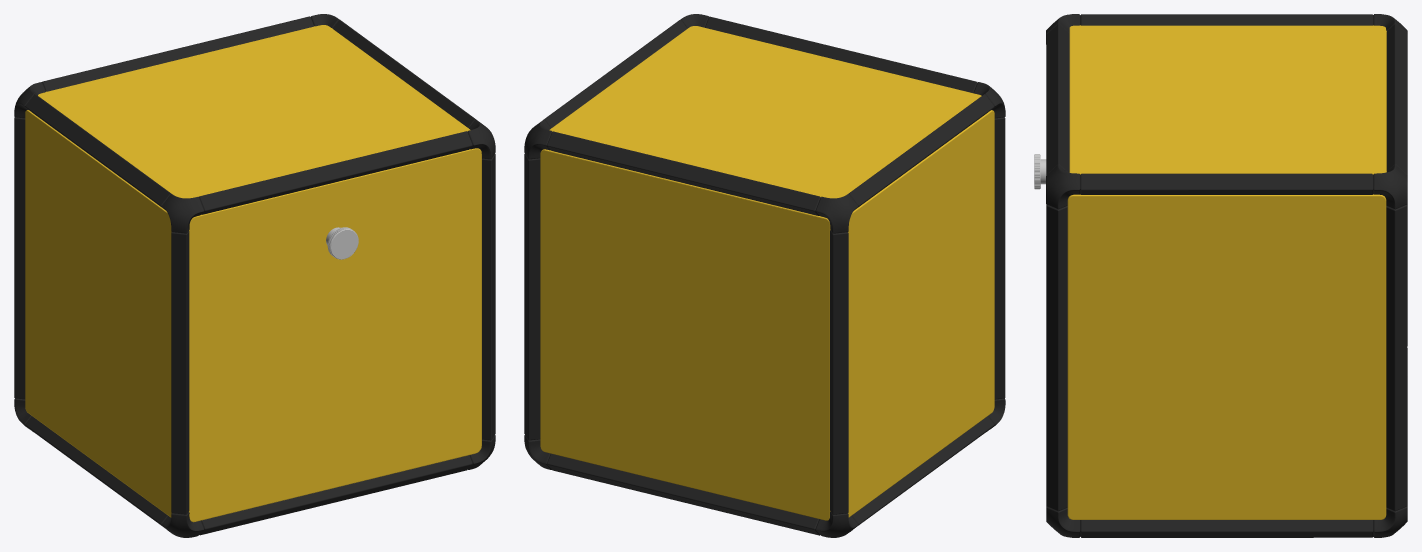
The picture shows the model from 3 angles, left to right: view 1: azimuth 30°, elevation 25°; view 2: azimuth 150°, elevation 25°; view 3: azimuth 270°, elevation 25°; orthographic projection. The views are drawn at different scales.
Visible parts, largest first — view 1: 374x329x374; view 2: 374x329x374; view 3: 374x329x374.
Boxes of the visible parts, bbox=[...] form: 374x329x374: bbox=[14, 14, 495, 537]; 374x329x374: bbox=[524, 14, 1005, 537]; 374x329x374: bbox=[1034, 14, 1407, 537].
Bounding box in the file's own units: 0.4517 × 0.4517 × 0.4196.
